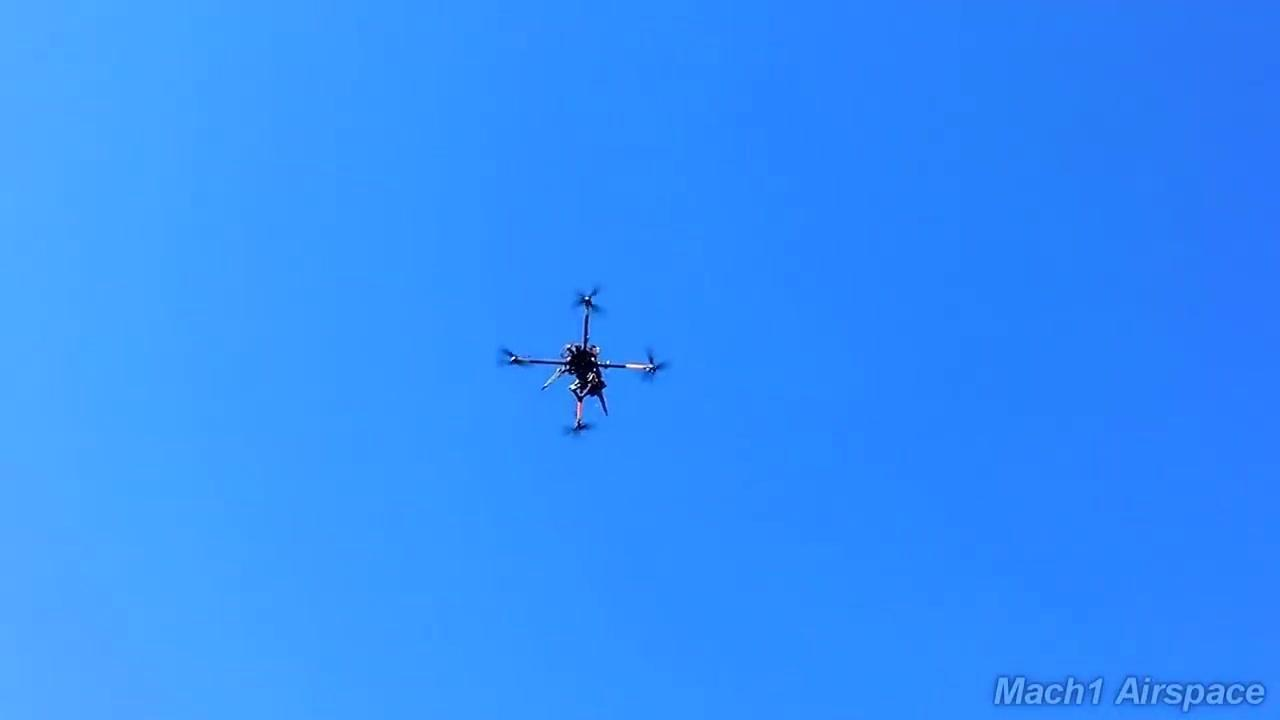UAV: (499, 284, 671, 439)
